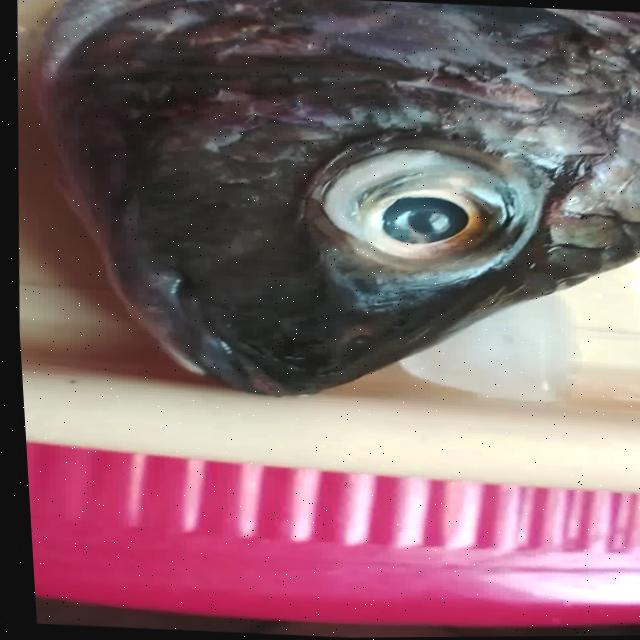Fresh: (276, 116, 549, 325)
